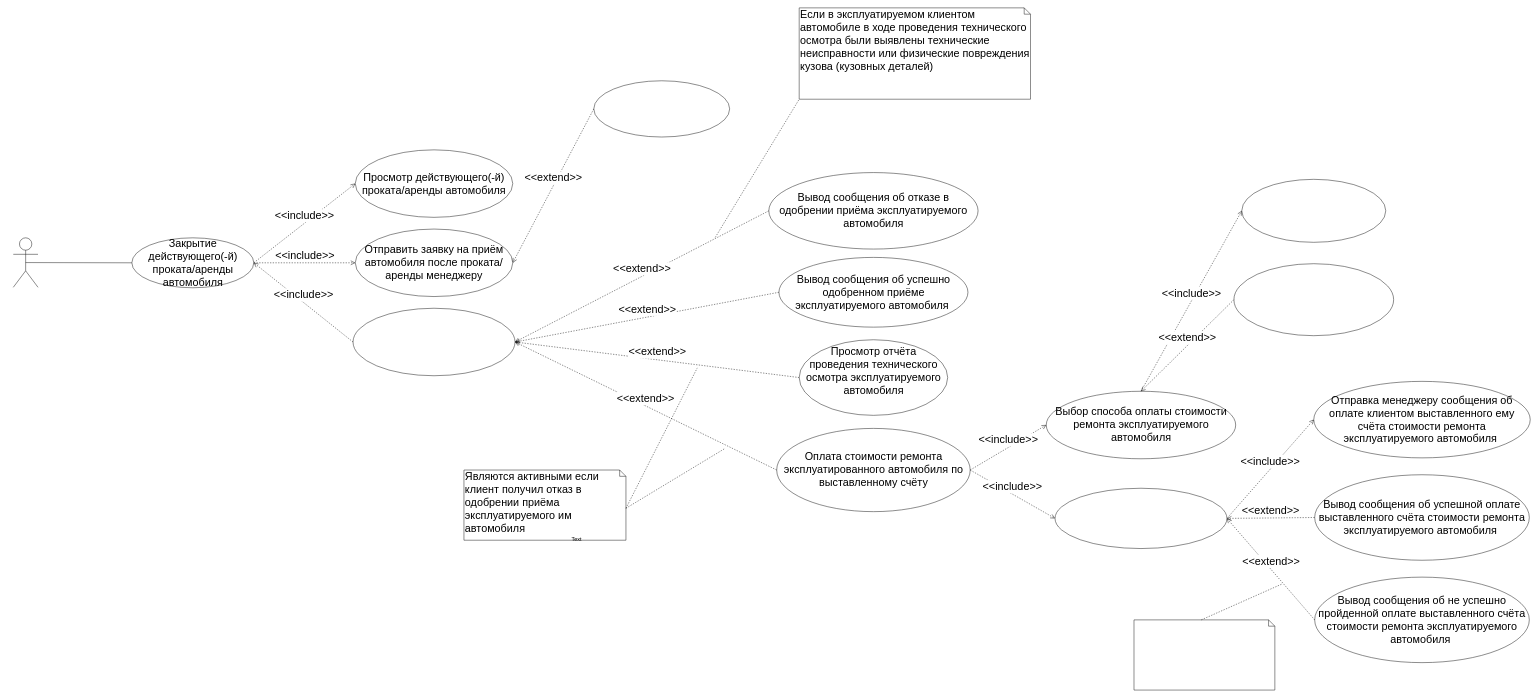
Image size: 1538x698. Some labels were removed from this diagram. The shapes that lost their labels are listed below. From the top down, each one's centre as x and y in pixels, then its label:
At point 661,108: "Вывод сообщения об успешной отправке заявки".
At point 1313,210: "Проверка данных на указание и их корректность выбора/ввода".
At point 25,262: "Клиент".
At point 1313,299: "Вывод сообщения об отсутствии данных или их некорректного выбора/ввода".
At point 434,342: "Просмотр результатов закрытия действующего(-й) проката/аренды автомобиля".
At point 1141,518: "Оплатить стоимость ремонта эксплуатируемого автомобиля".
At point 1204,654: "Если указанные данные клиентом выбранного способа оплаты не являются корректными".
